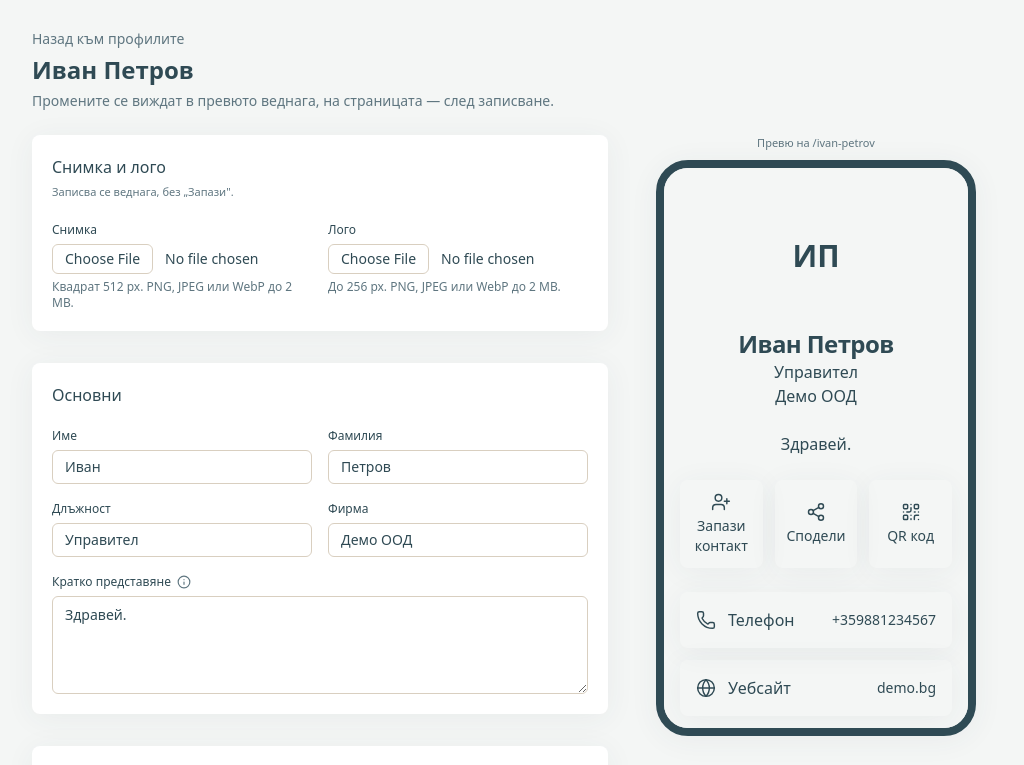
Test case: ProfileEditor › stops an empty first name with a Zod message, without the action
The width and height of the screenshot is (1024, 765).
Clear the field labelled "Име": (182, 466) [52,450,312,484]
(page scrolled)
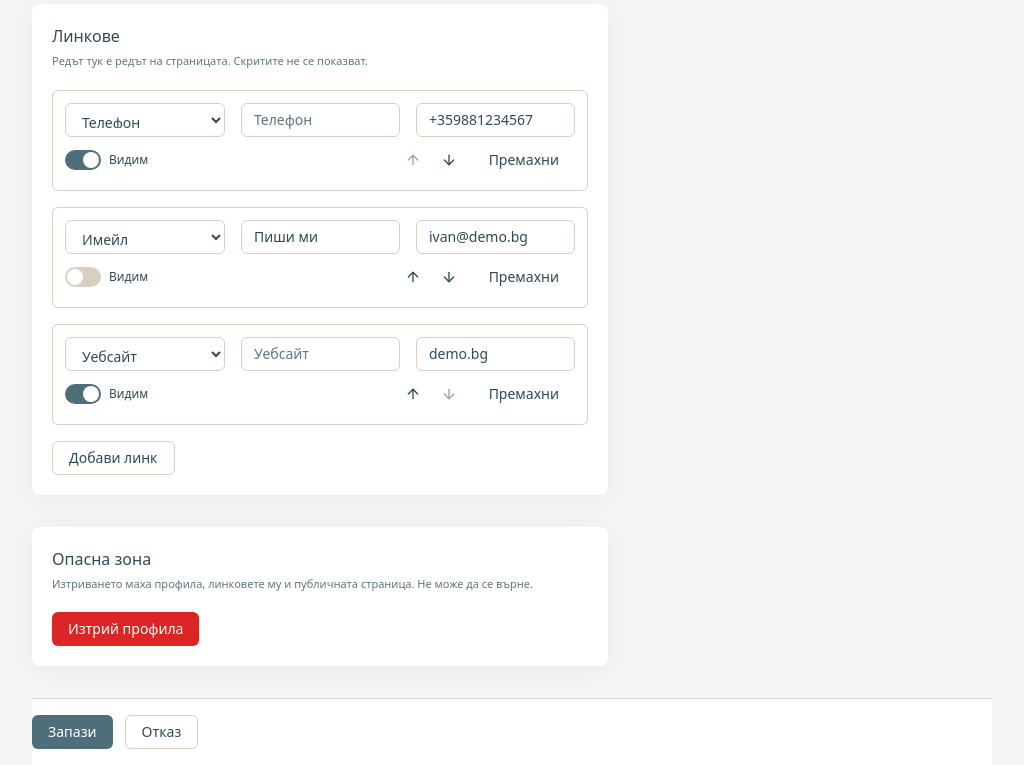
Click the button "Запази": (72, 732) [32,715,112,749]
(page scrolled)
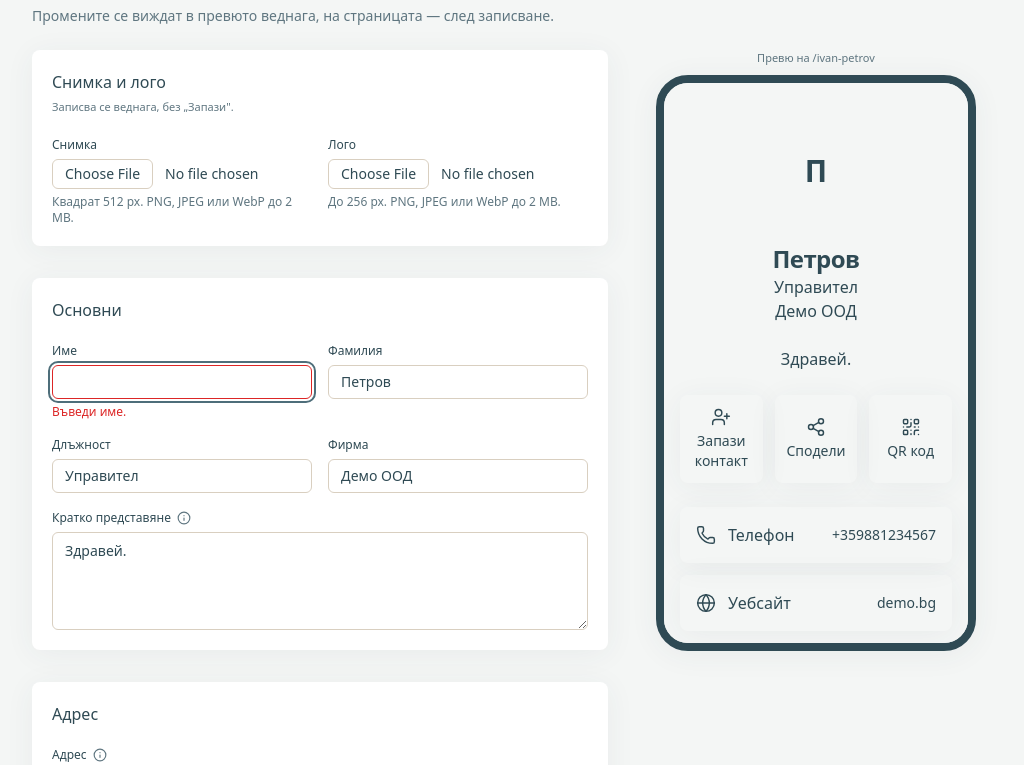
Expected: the text "Въведи име." is shown, [52,402,126,420]
